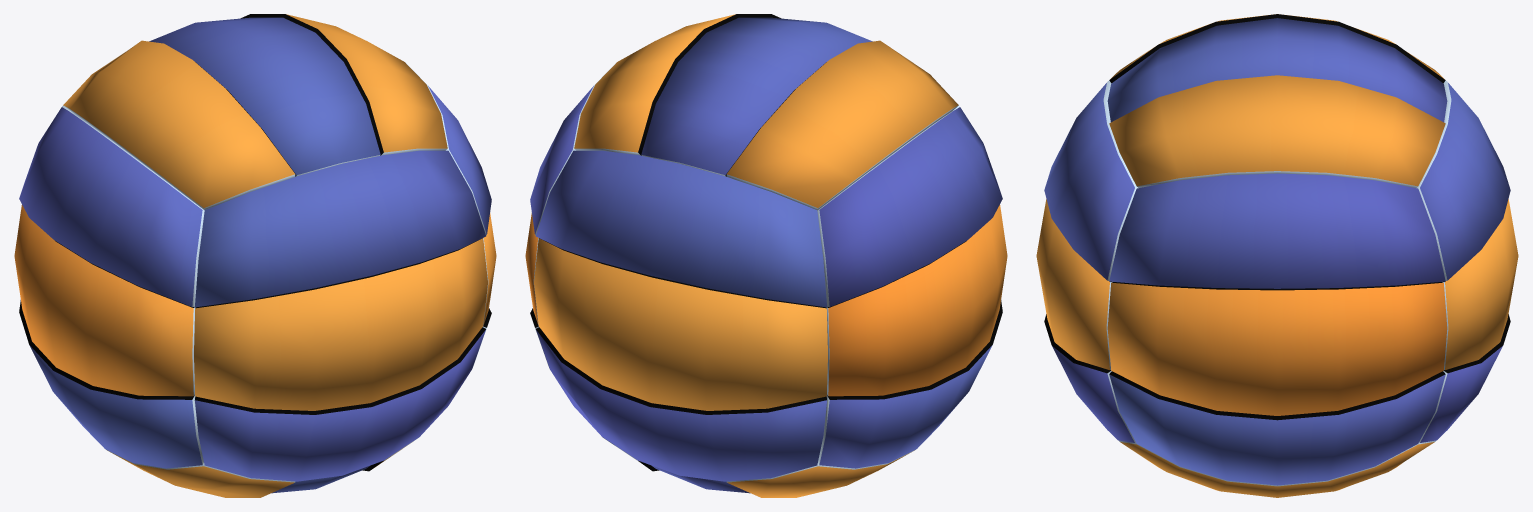
File: Волейбол.glb
The picture shows the model from 3 angles, left to right: view 1: azimuth 30°, elevation 25°; view 2: azimuth 150°, elevation 25°; view 3: azimuth 270°, elevation 25°; orthographic projection.
Visible parts, largest first — view 1: Волейбол; view 2: Волейбол; view 3: Волейбол.
Boxes of the visible parts, x1,y1,x2,y2 form: Волейбол: (14,14,496,497); Волейбол: (525,14,1007,497); Волейбол: (1036,14,1518,497).
Size of the model in its own units: 3.55 by 3.55 by 3.55.
Materials: 1 (1 with a texture image).
